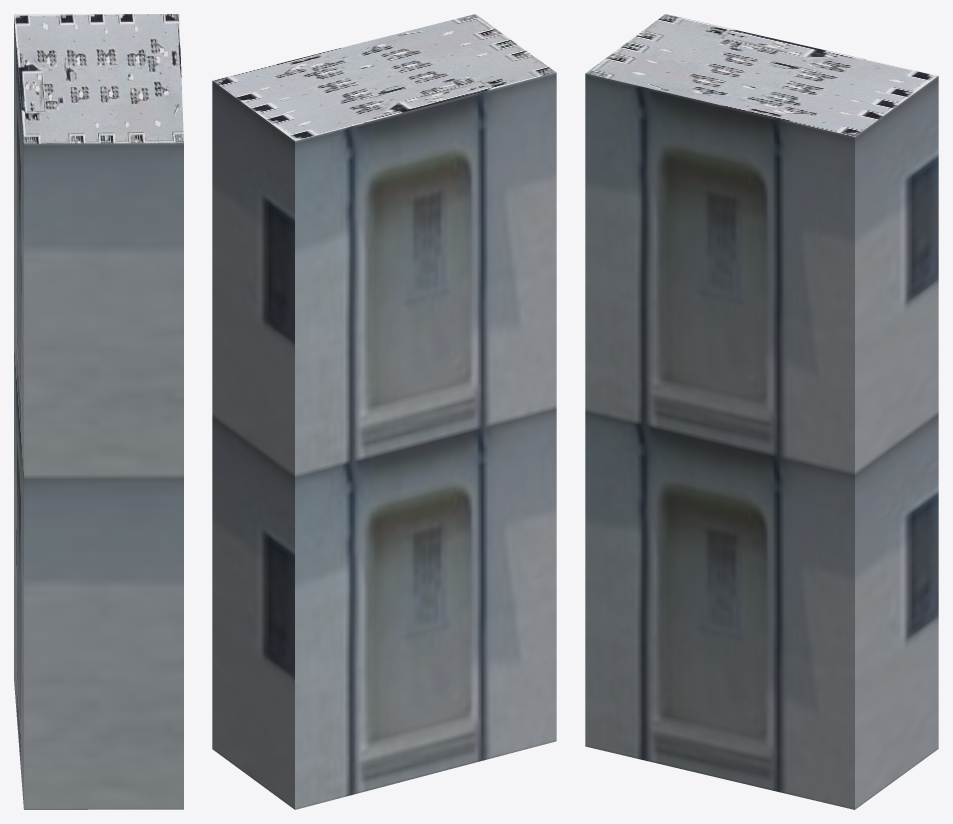
Rendered from ResTex__804.fbx.
3 renders of one model, left to right at view 1: azimuth 30°, elevation 25°; view 2: azimuth 150°, elevation 25°; view 3: azimuth 270°, elevation 25°, orthographic.
Parts seen in each view (by area): view 1: CityEngineMaterial_17_m, CityEngineMaterial_m; view 2: CityEngineMaterial_17_m, CityEngineMaterial_m; view 3: CityEngineMaterial_17_m, CityEngineMaterial_m.
Boxes of the visible parts, x1,y1,x2,y2 form: CityEngineMaterial_17_m: [14, 15, 183, 809]; CityEngineMaterial_m: [14, 14, 183, 143]; CityEngineMaterial_17_m: [212, 72, 556, 809]; CityEngineMaterial_m: [212, 14, 555, 140]; CityEngineMaterial_17_m: [585, 73, 938, 809]; CityEngineMaterial_m: [586, 14, 937, 136].
Size of the model in its own units: 2.35 by 6 by 2.85.
2 materials, 2 textured.
